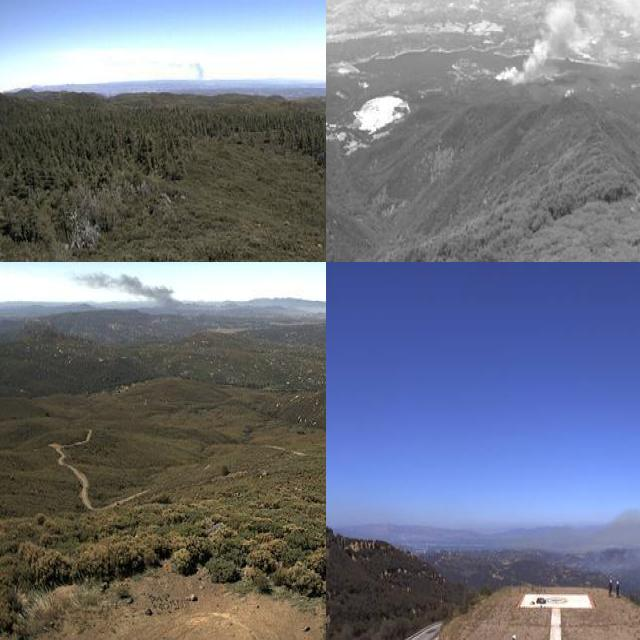smoke: (486, 0, 640, 88), (71, 266, 197, 313), (174, 56, 202, 88)
